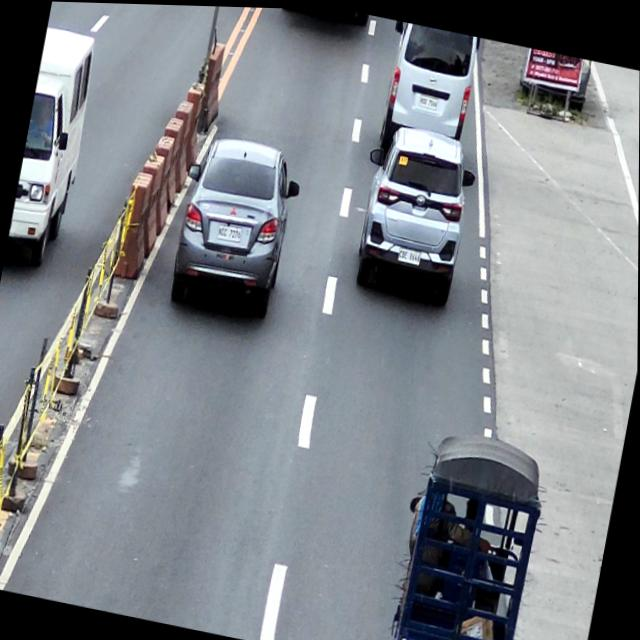Car: (163, 127, 307, 326), (347, 116, 483, 308), (3, 24, 101, 278), (372, 17, 483, 168)
E-bike: (379, 415, 554, 640)
License-Plate: (216, 222, 243, 242), (397, 244, 422, 262), (417, 92, 439, 108)
